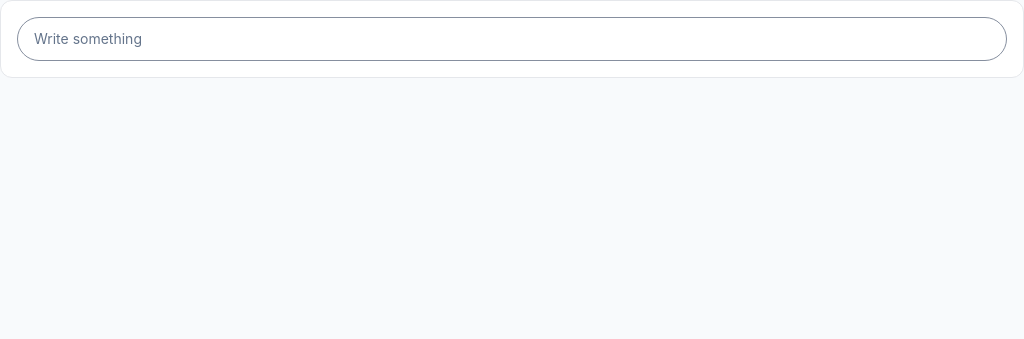
Test: PostComposer › submits the chosen category and resets to the default
Press Enter in the button "Write something", box [17,17,1007,61]
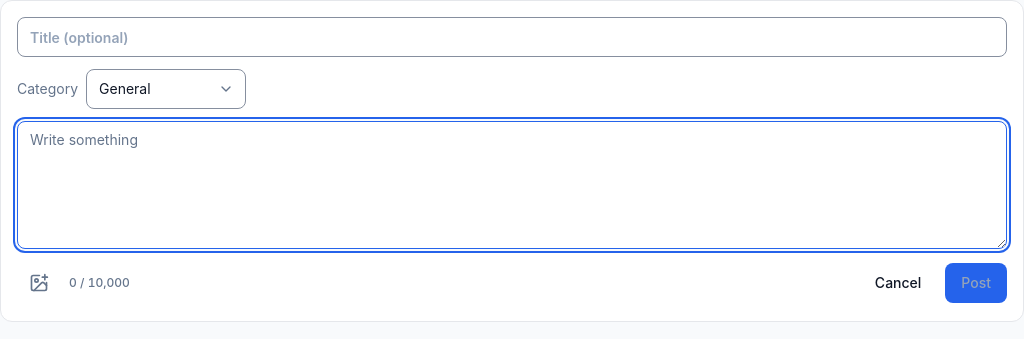
Expected: the dropdown labelled "Category" shows "General"
Select "Introductions" in the dropdown labelled "Category" at x=166, y=89, box [86,69,246,109]
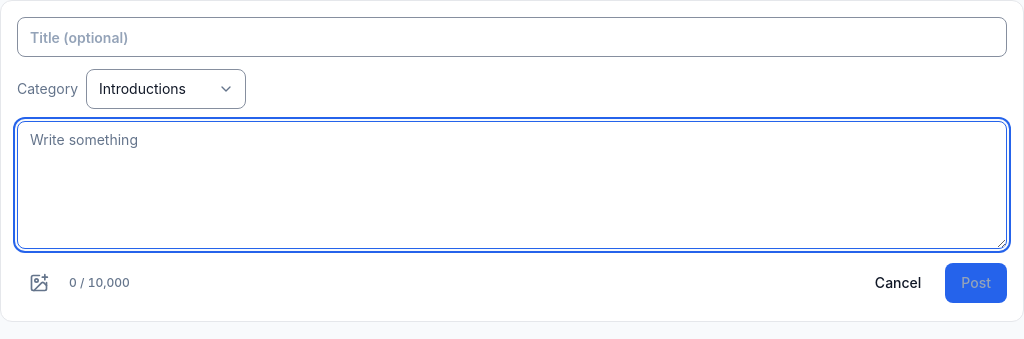
Type "Hello there" into the text box labelled "Write something" at x=512, y=185, box [17,121,1007,249]
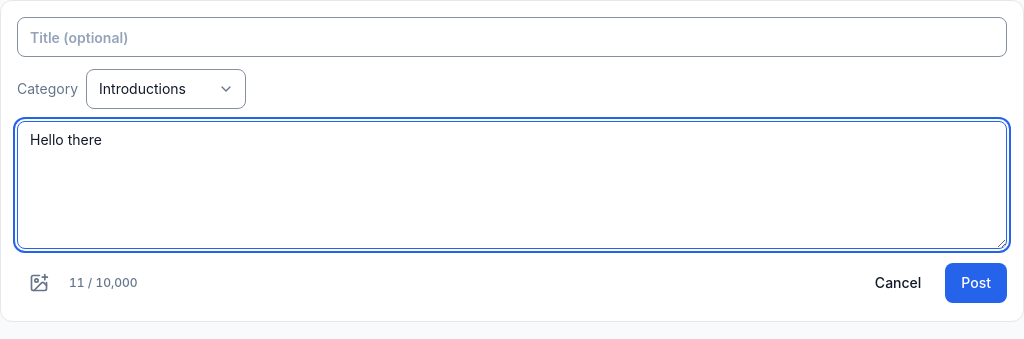
Click the button "Post" at x=976, y=283, box [945,263,1007,303]
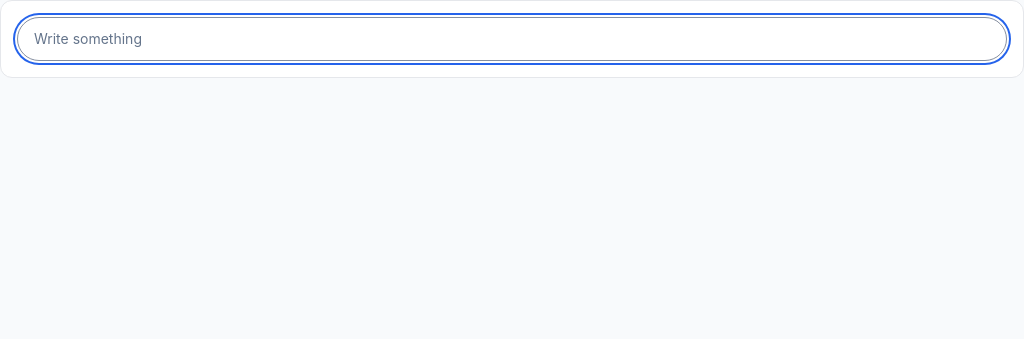
Press Enter in the button "Write something", box [17,17,1007,61]
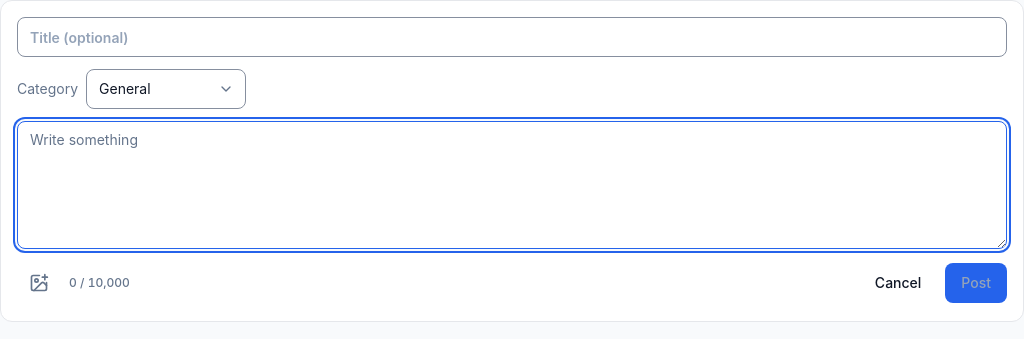
Expected: the dropdown labelled "Category" shows "General", [86,69,246,109]
